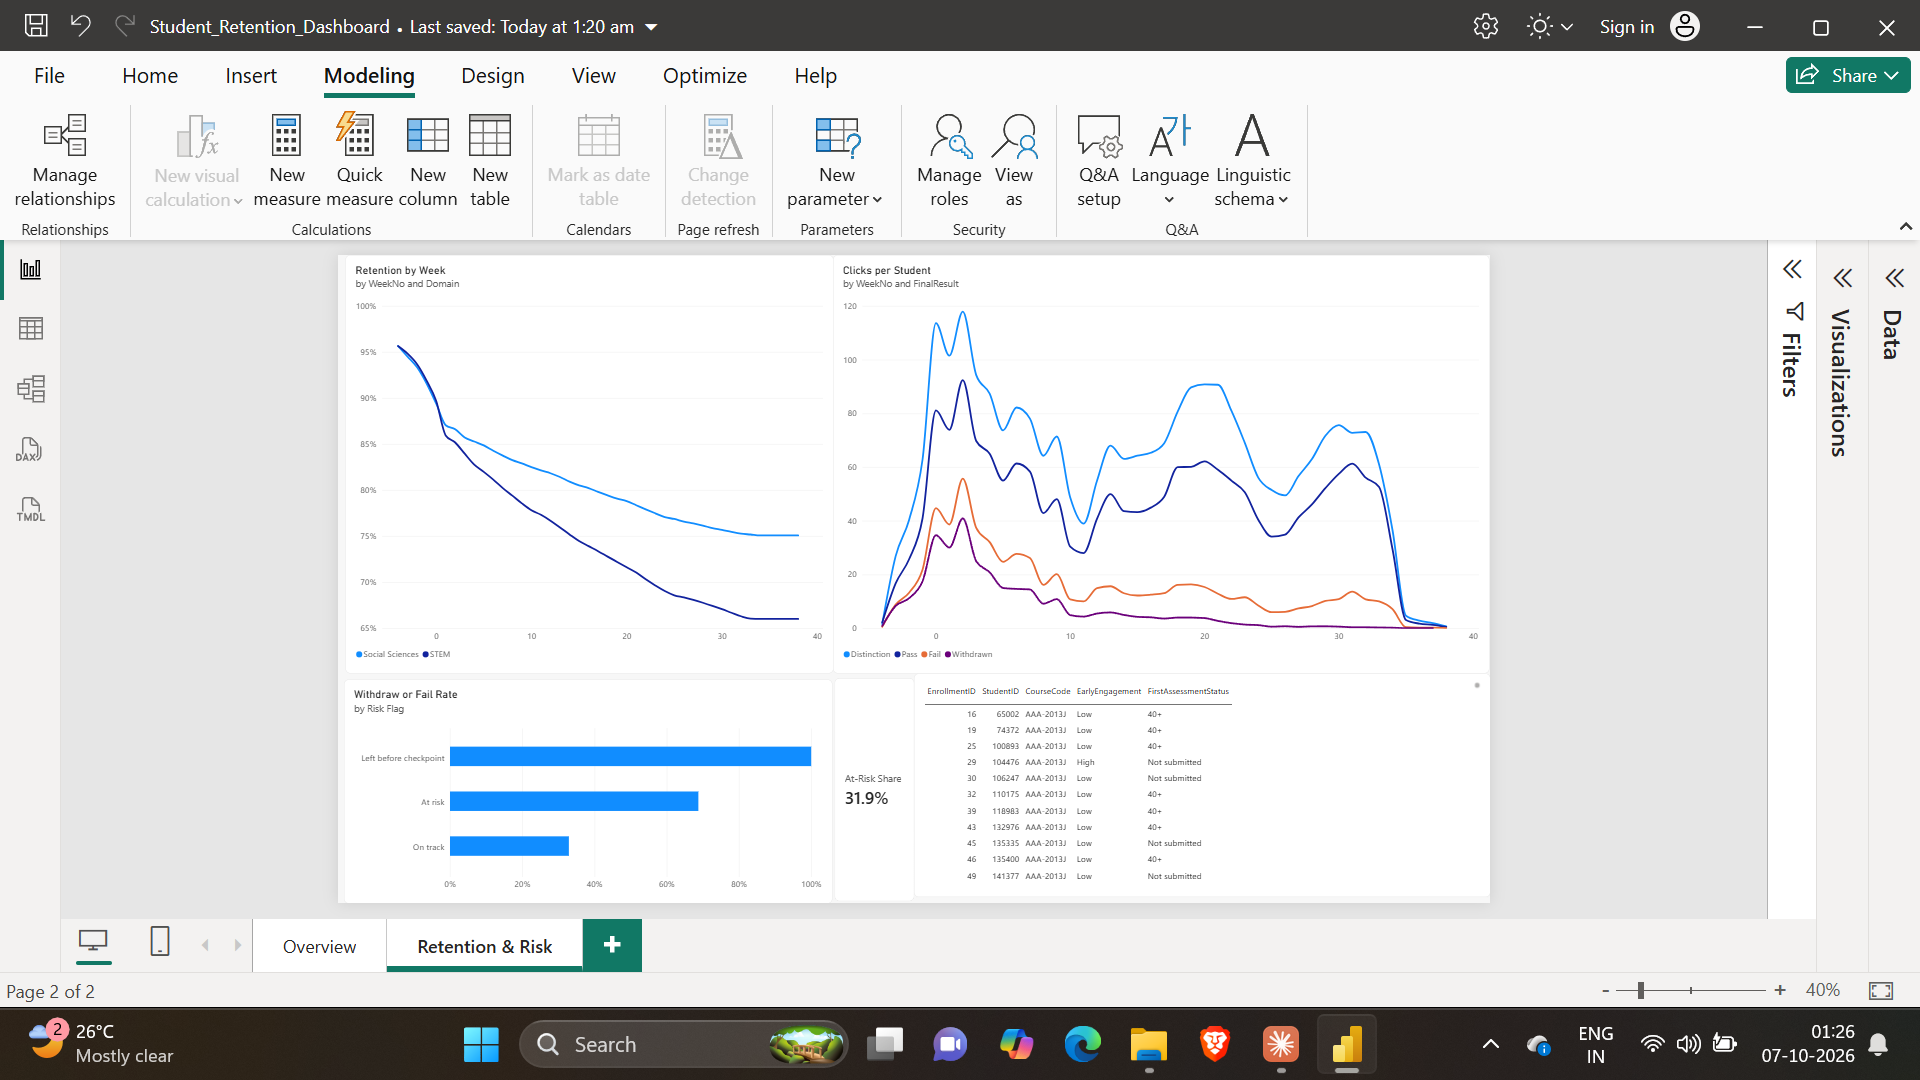

The dashboard page shown, as its layout file describes it:
{"tool":"powerbi","page":{"name":"Retention & Risk","canvas":[1920,1080],"ordinal":1},"visuals":[{"type":"lineChart","fields":{"Category":["dim_week.WeekNo"],"Series":["dim_course.Domain"],"Y":["_Measures.Retention by Week"]},"box":[11.3,0,813.5,697.3],"z":0},{"type":"lineChart","fields":{"Category":["dim_week.WeekNo"],"Series":["dim_result.FinalResult"],"Y":["_Measures.Clicks per Student"]},"box":[824.9,0,1094.2,697.3],"z":1000},{"type":"clusteredBarChart","fields":{"Category":["fact_enrollment.Risk Flag"],"Y":["_Measures.Withdraw or Fail Rate"]},"box":[11,707,814,373],"z":2000},{"type":"cardVisual","fields":{"Data":["_Measures.At-Risk Share"]},"box":[827.3,706.1,133.3,372.7],"z":3000},{"type":"tableEx","fields":{"Values":["fact_enrollment.EnrollmentID","dim_student.StudentID","dim_course.CourseCode","fact_enrollment.EarlyEngagement","fact_enrollment.FirstAssessmentStatus"]},"box":[960.6,697,960.6,372.7],"z":4000}]}

Visuals, with their boxes on the page's 1920x1080 design canvas (x1, y1, x2, y2). These are canvas units, not pixel positions in the 1920x1080 screenshot, which may show the page scaled, cropped or inside an application window:
lineChart - dim_week.WeekNo x dim_course.Domain: [x1=11, y1=0, x2=825, y2=697]
lineChart - dim_week.WeekNo x dim_result.FinalResult: [x1=825, y1=0, x2=1919, y2=697]
clusteredBarChart - fact_enrollment.Risk Flag x _Measures.Withdraw or Fail Rate: [x1=11, y1=707, x2=825, y2=1080]
cardVisual - _Measures.At-Risk Share: [x1=827, y1=706, x2=961, y2=1079]
tableEx - fact_enrollment.EnrollmentID x dim_student.StudentID: [x1=961, y1=697, x2=1921, y2=1070]
